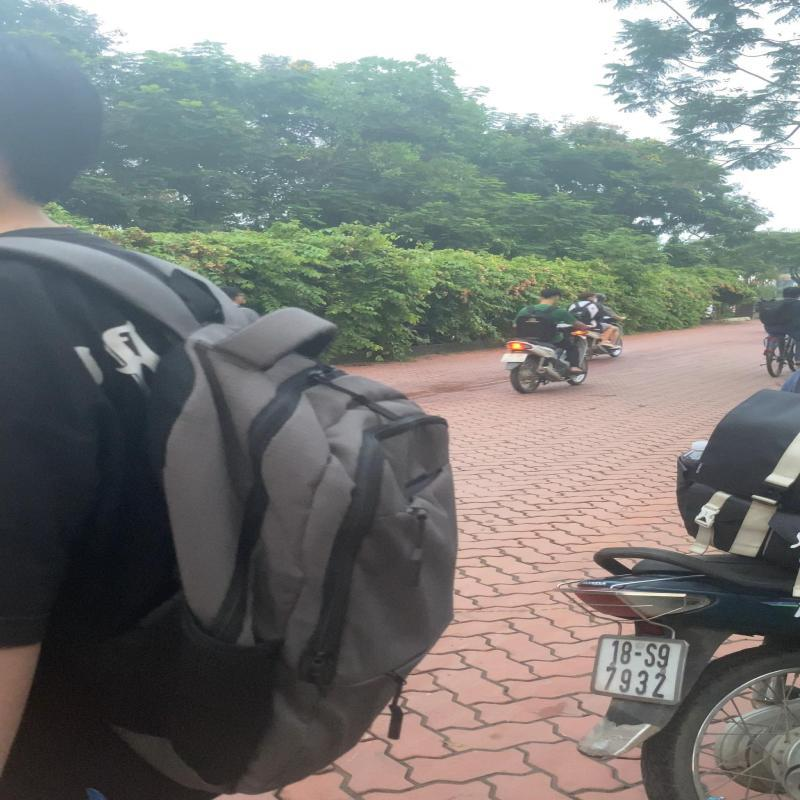licenseplate: (500, 353, 529, 362)
motorcyclist: (499, 287, 601, 395)
nohelmet: (539, 288, 562, 303)
